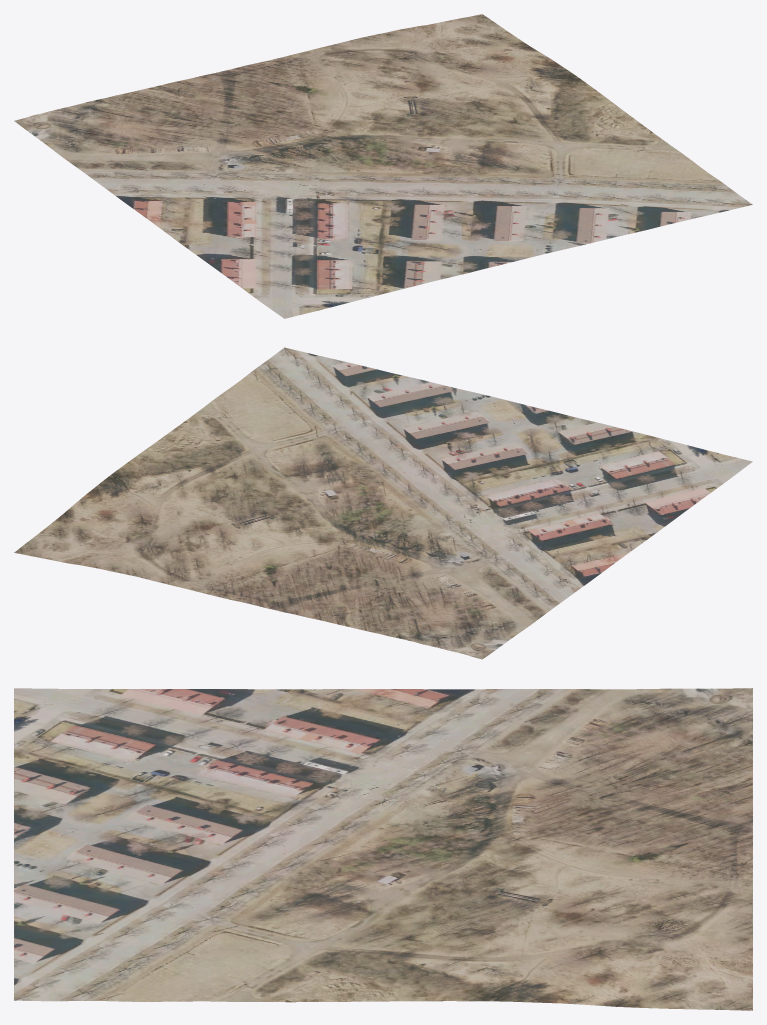
File: CM_Terrain_24489230_6819384.fbx
3 views of the same model, one above another, from view 1: azimuth 30°, elevation 25°; view 2: azimuth 150°, elevation 25°; view 3: azimuth 270°, elevation 25° (orthographic). The views are drawn at different scales.
Visible parts, largest first — view 1: CM_Terrain_24489230_6819384_LOD0; view 2: CM_Terrain_24489230_6819384_LOD0; view 3: CM_Terrain_24489230_6819384_LOD0.
Part boxes in pixels (x1=…): CM_Terrain_24489230_6819384_LOD0: x1=14, y1=14, x2=752, y2=318; CM_Terrain_24489230_6819384_LOD0: x1=14, y1=347, x2=752, y2=659; CM_Terrain_24489230_6819384_LOD0: x1=14, y1=688, x2=752, y2=1010.
Size of what is drawn, in the model's own units: 205 by 3.71 by 205.
